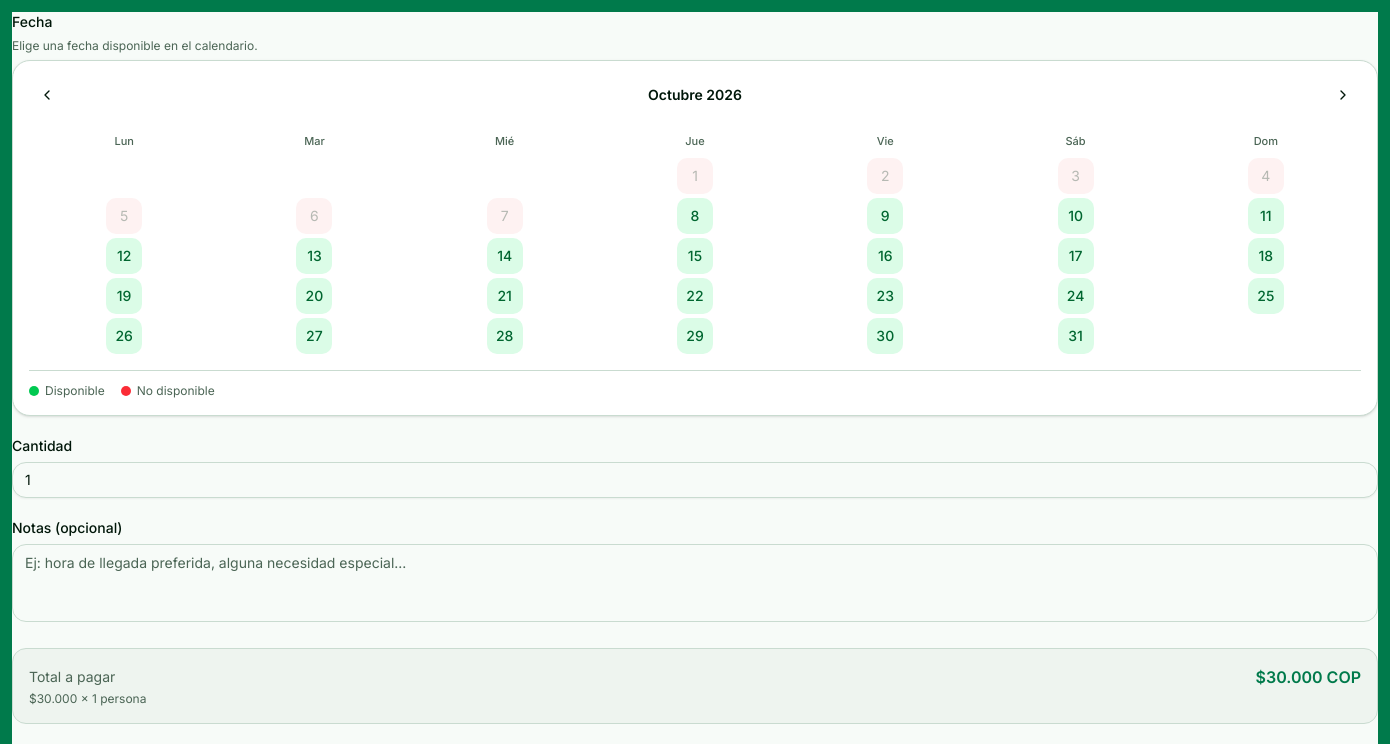
Test: GuideTourPrereservaForm › caps people_count at the tour capacity
Replace the text in the number field labelled "Cantidad" with "10". click: (695, 480)
box: [12, 462, 1378, 498]
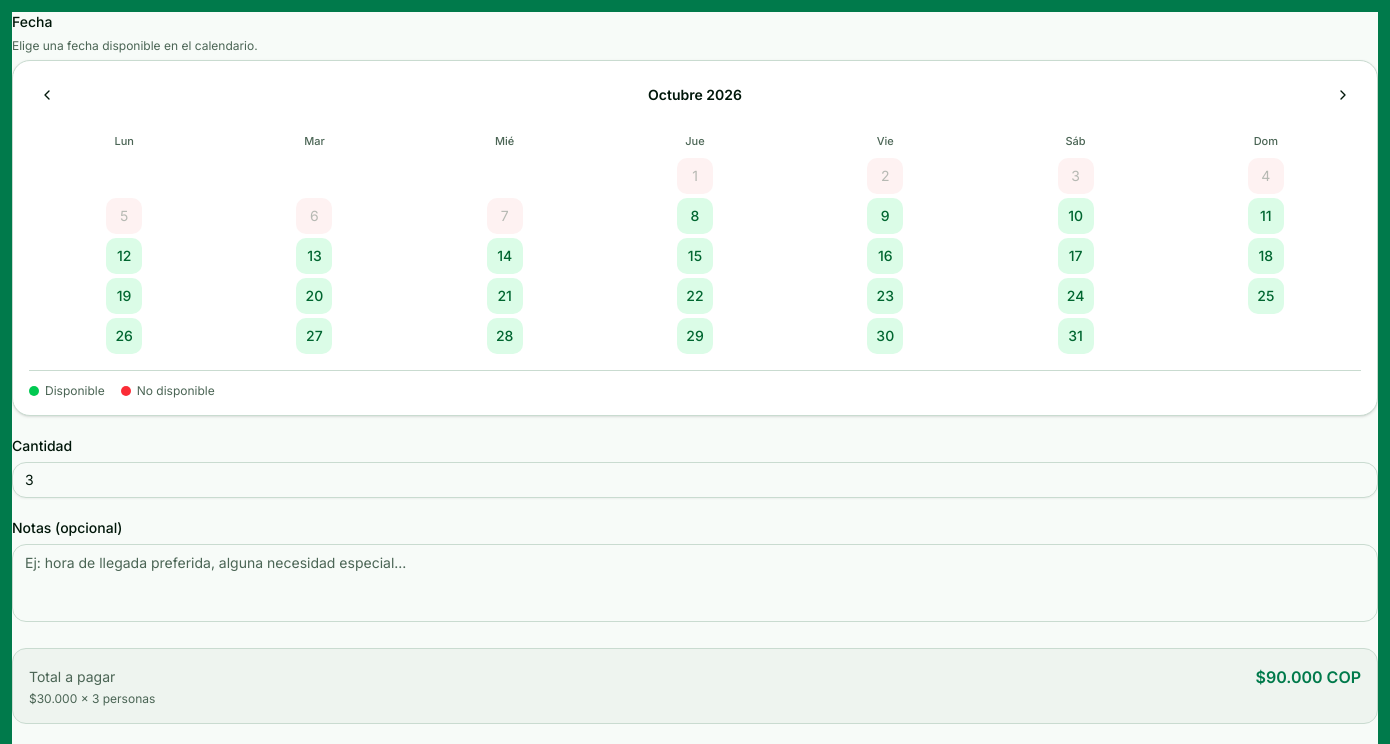
Check: the number field labelled "Cantidad" holds "3", box [12, 462, 1378, 498]
